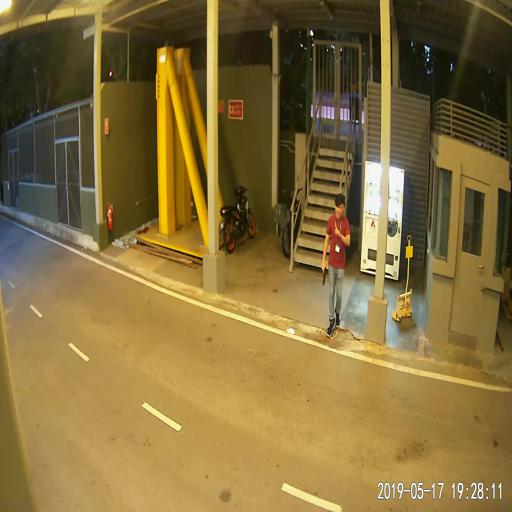pistol: (320, 262, 326, 285)
